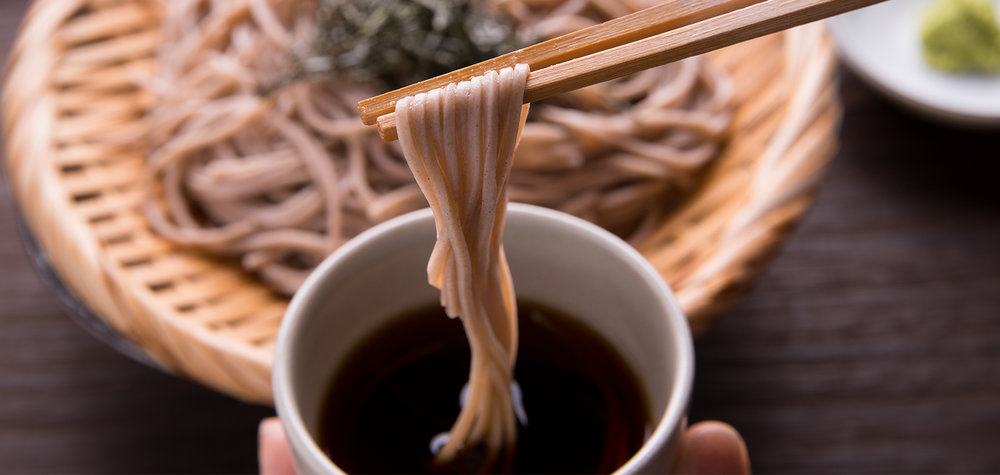Soba: (137, 2, 737, 264), (405, 82, 552, 439)
